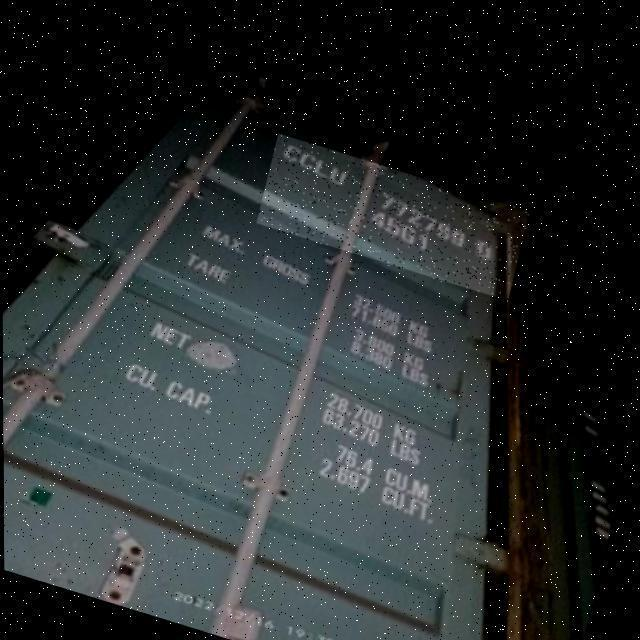container_number_h: (255, 129, 530, 298)
